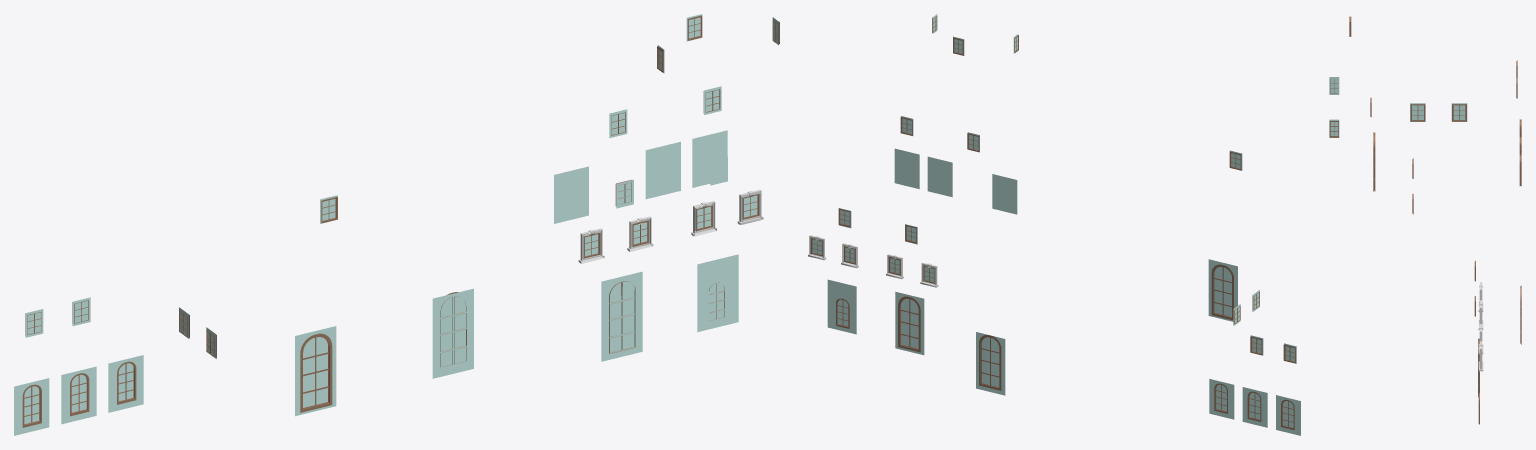
The model's file is Windows_01.fbx.
The picture shows the model from 3 angles, left to right: view 1: azimuth 30°, elevation 25°; view 2: azimuth 150°, elevation 25°; view 3: azimuth 270°, elevation 25°; orthographic projection. The views are drawn at different scales.
Parts seen in each view (by area): view 1: Window_01; view 2: Window_01; view 3: Window_01.
Part boxes in pixels (x1,y1,x2,y2): Window_01: (14, 14, 779, 435); Window_01: (808, 14, 1300, 435); Window_01: (1329, 16, 1521, 424).
Size of the model in its own units: 45.92 by 23.98 by 13.86.
